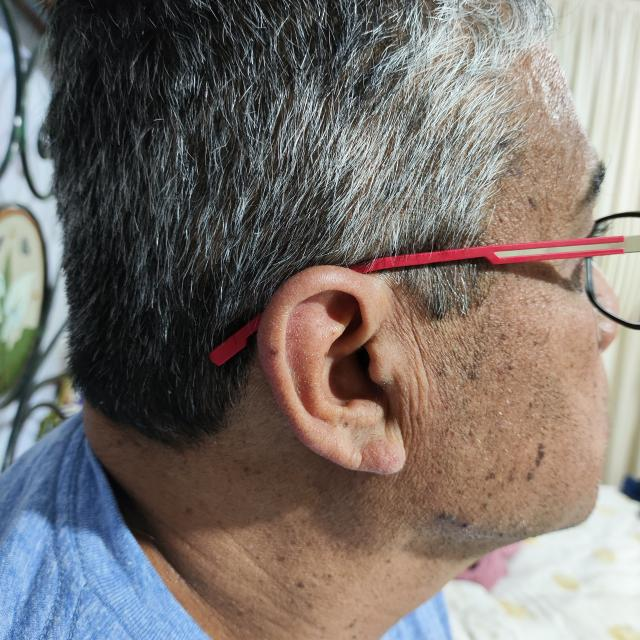ear: (258, 266, 408, 475)
